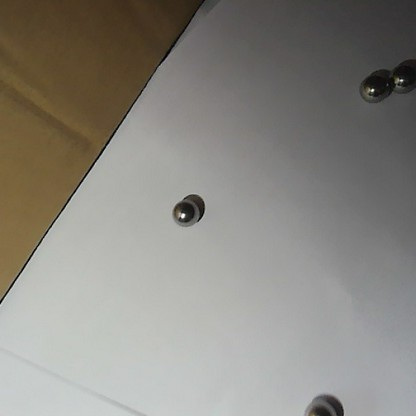ironball: (358, 71, 390, 103), (169, 196, 202, 227), (297, 396, 344, 414), (390, 56, 413, 92)
